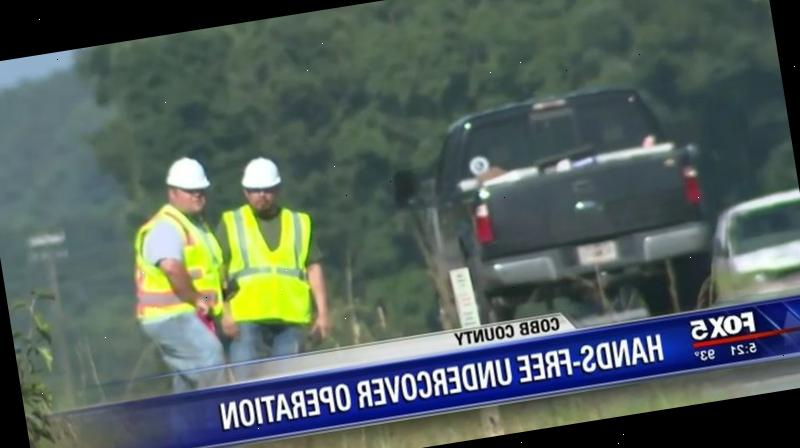helmet: (158, 152, 212, 196), (235, 151, 286, 193)
wear: (215, 206, 322, 334), (130, 210, 230, 330)
